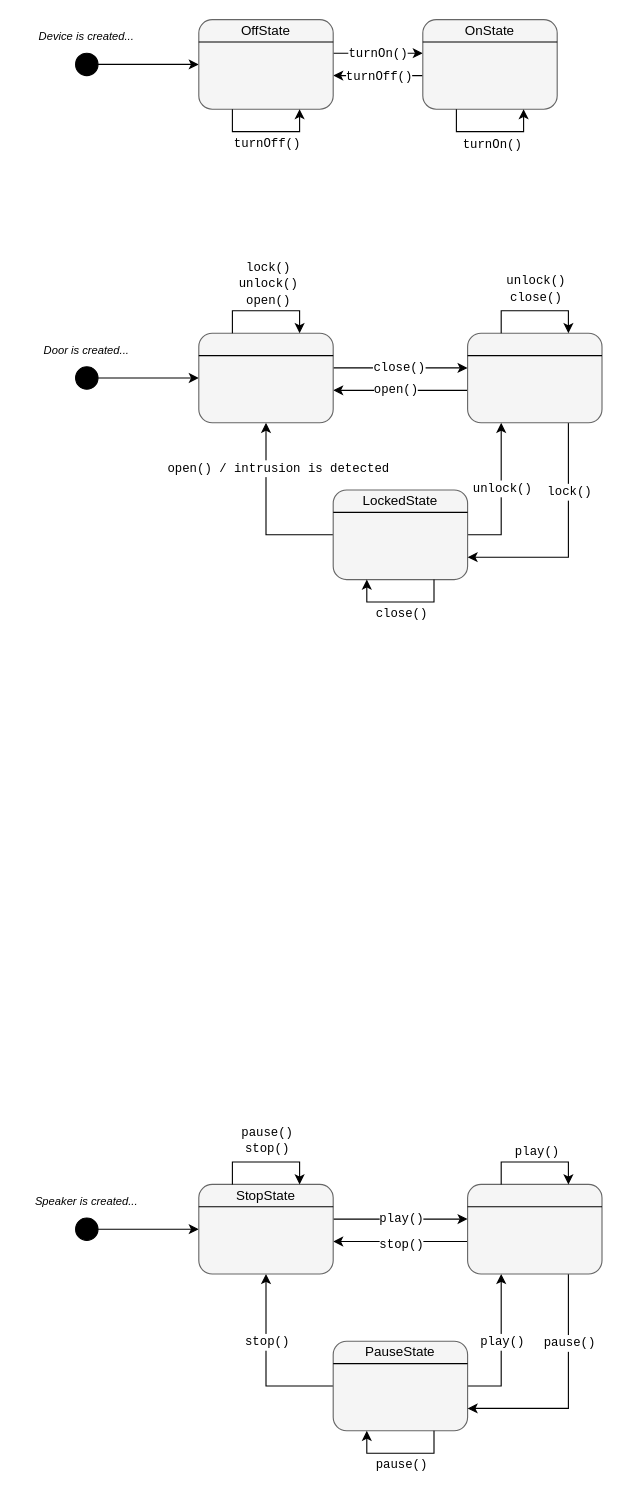
Image size: 623x1492. Some labels were removed from this diagram. The shapes that lost their labels are listed below. From the top down, each one's centre as x and y in pixels, then its label:
(x=265, y=377): OpenedState
(x=534, y=377): ClosedState
(x=534, y=1228): PlayState
